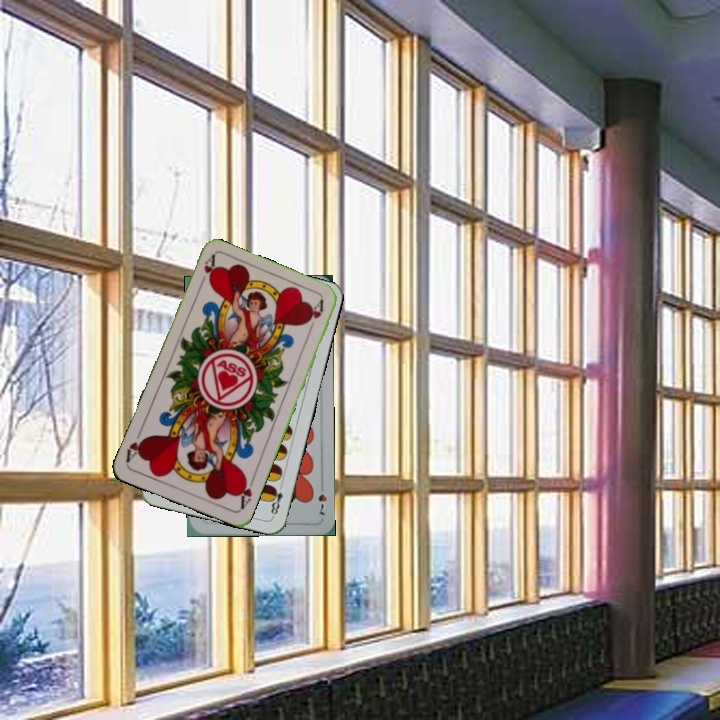E8: (266, 479, 286, 519)
H7: (314, 478, 329, 518)
HA: (234, 472, 258, 512), (194, 252, 218, 291)
